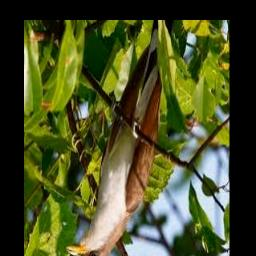Cuckoo: (67, 20, 169, 256)
